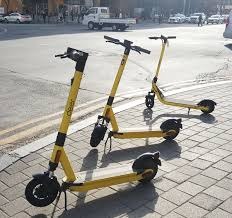kick_board: (26, 47, 161, 206), (91, 35, 183, 143), (144, 35, 216, 111)
kick_body: (121, 128, 161, 136), (167, 99, 198, 107)
kick_handler: (53, 47, 88, 71), (104, 35, 150, 53), (148, 36, 177, 42)
kick_neck: (49, 72, 80, 159), (103, 54, 128, 112)
kick_wheel: (25, 174, 57, 207), (135, 150, 157, 181), (162, 119, 180, 139), (88, 125, 104, 147), (199, 99, 214, 111), (146, 95, 154, 108)
